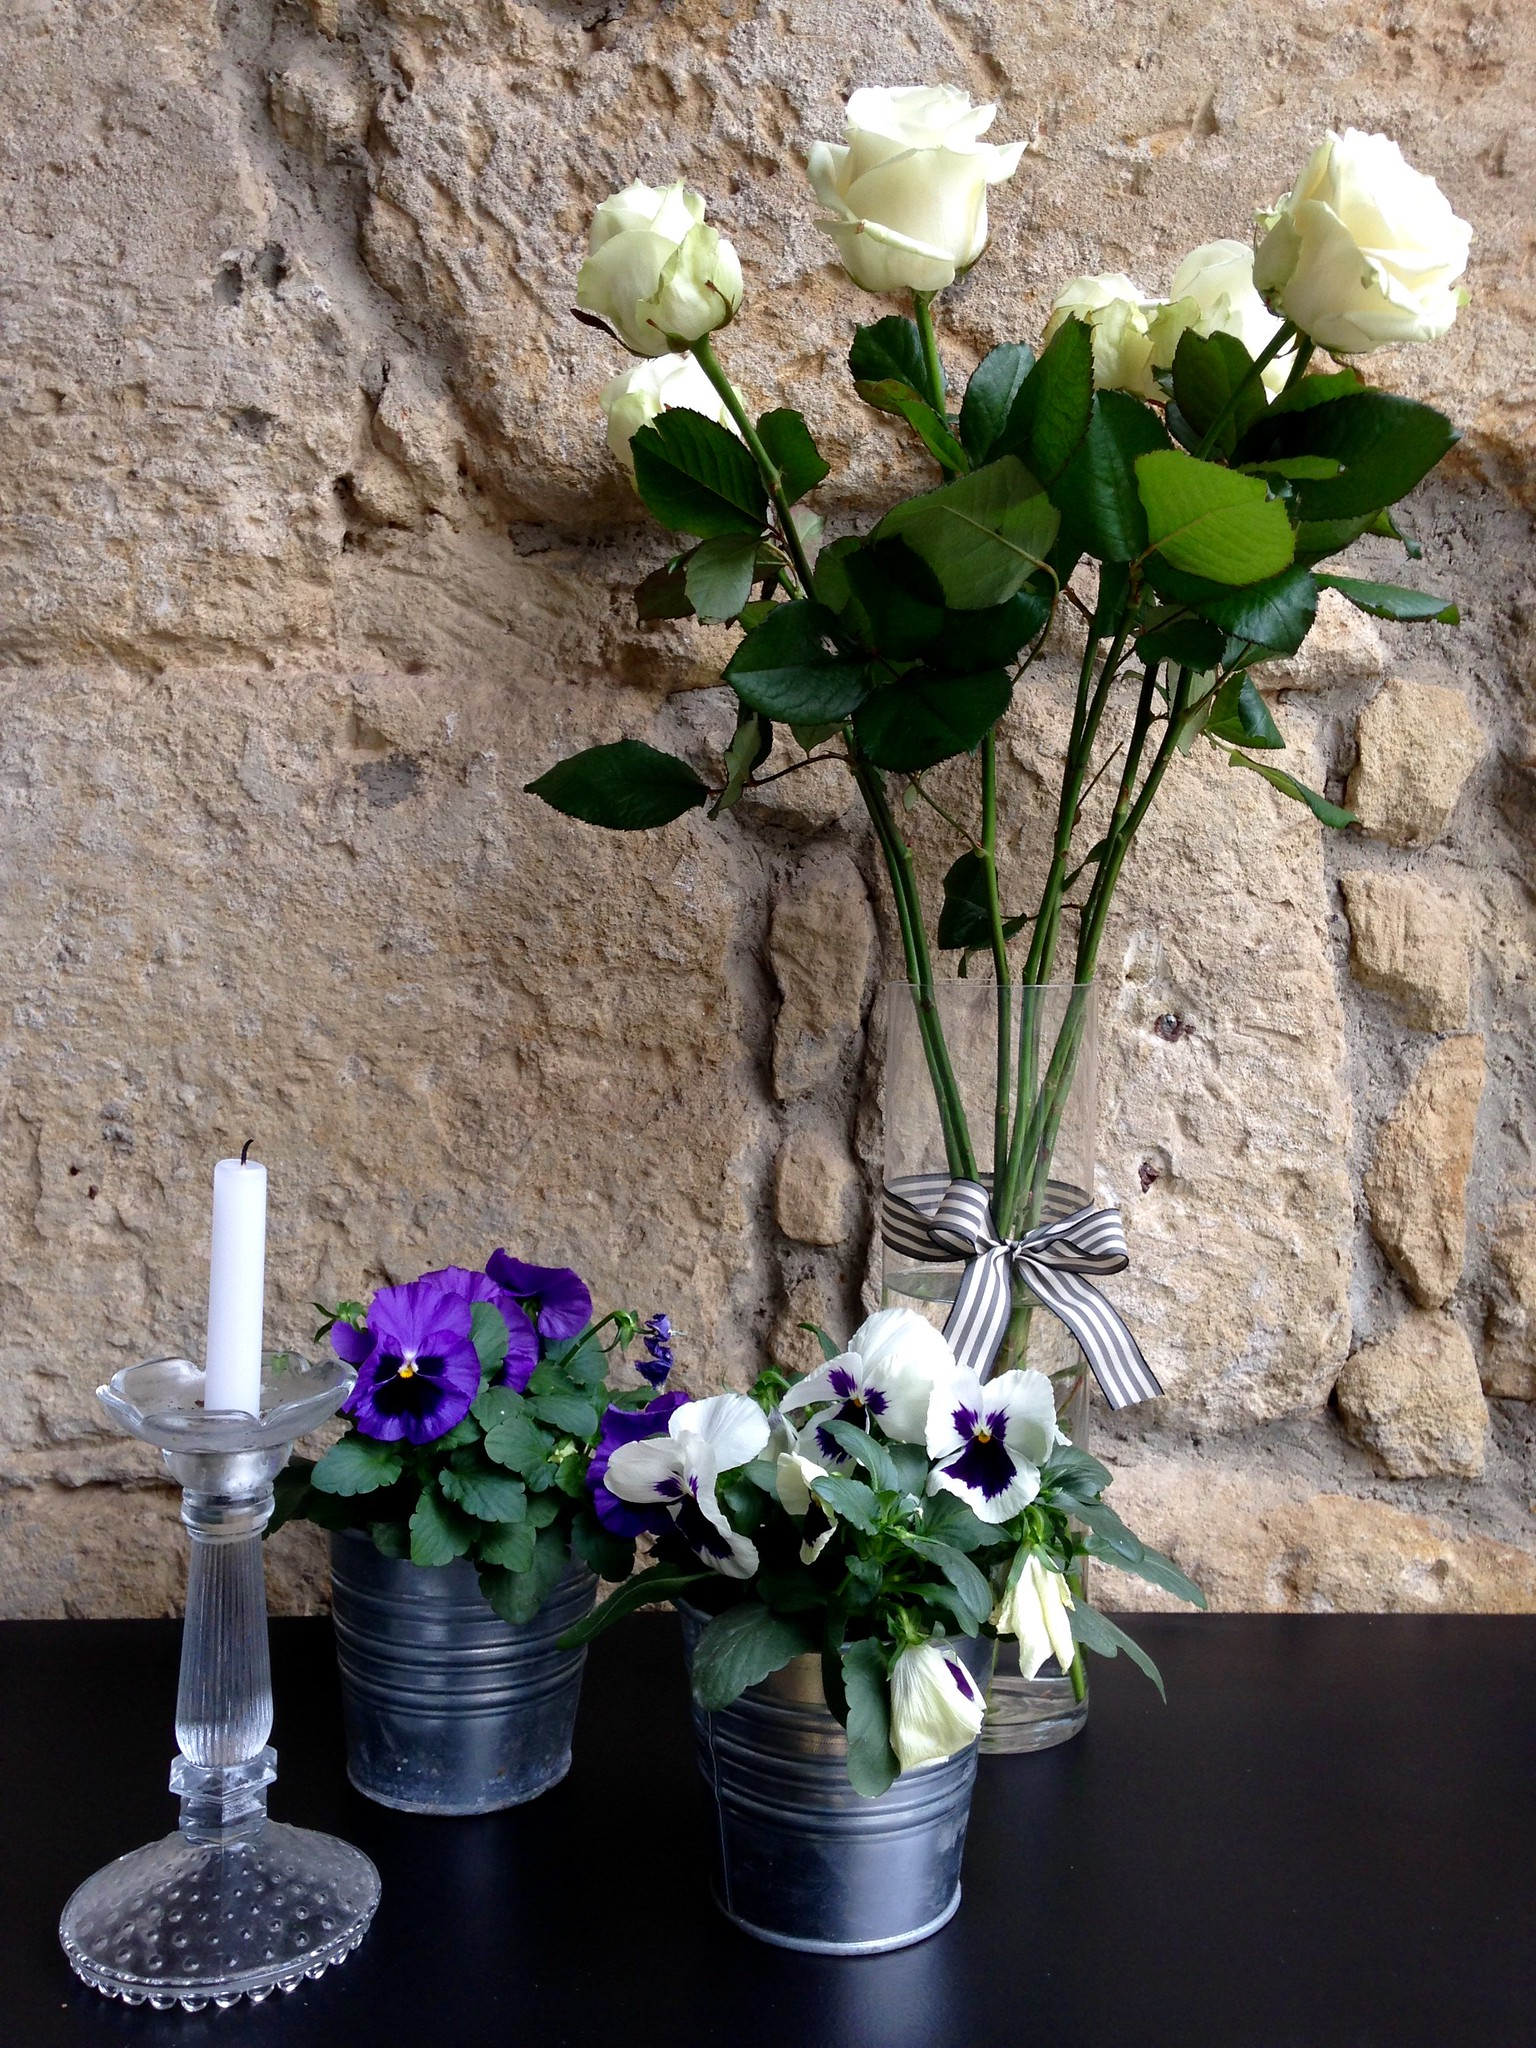potted plant: (658, 85, 1210, 1801), (658, 1377, 999, 1946), (315, 1280, 610, 1825)
